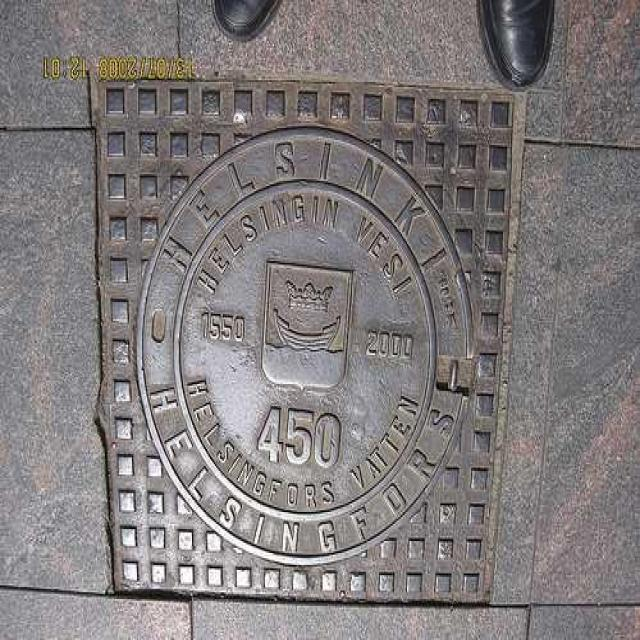manhole: (138, 130, 473, 563)
